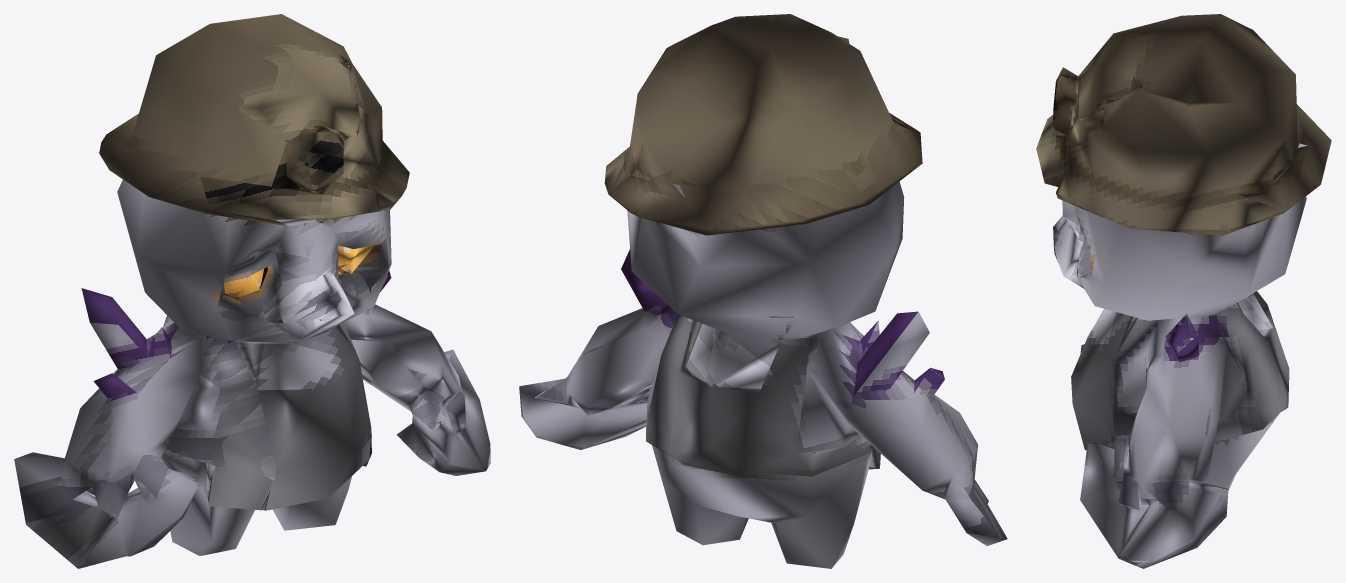
Rendered from repeater_v1_low.glb.
3 renders of one model, left to right at view 1: azimuth 30°, elevation 25°; view 2: azimuth 150°, elevation 25°; view 3: azimuth 270°, elevation 25°, orthographic. The views are drawn at different scales.
Parts seen in each view (by area): view 1: low; view 2: low; view 3: low.
Part boxes in pixels (x1,y1,x2,y2): low: (14, 14, 490, 568); low: (519, 14, 1007, 568); low: (1036, 14, 1331, 568).
Bounding box in the file's own units: 1.53 × 1.61 × 0.8941.
1 material, 1 textured.
